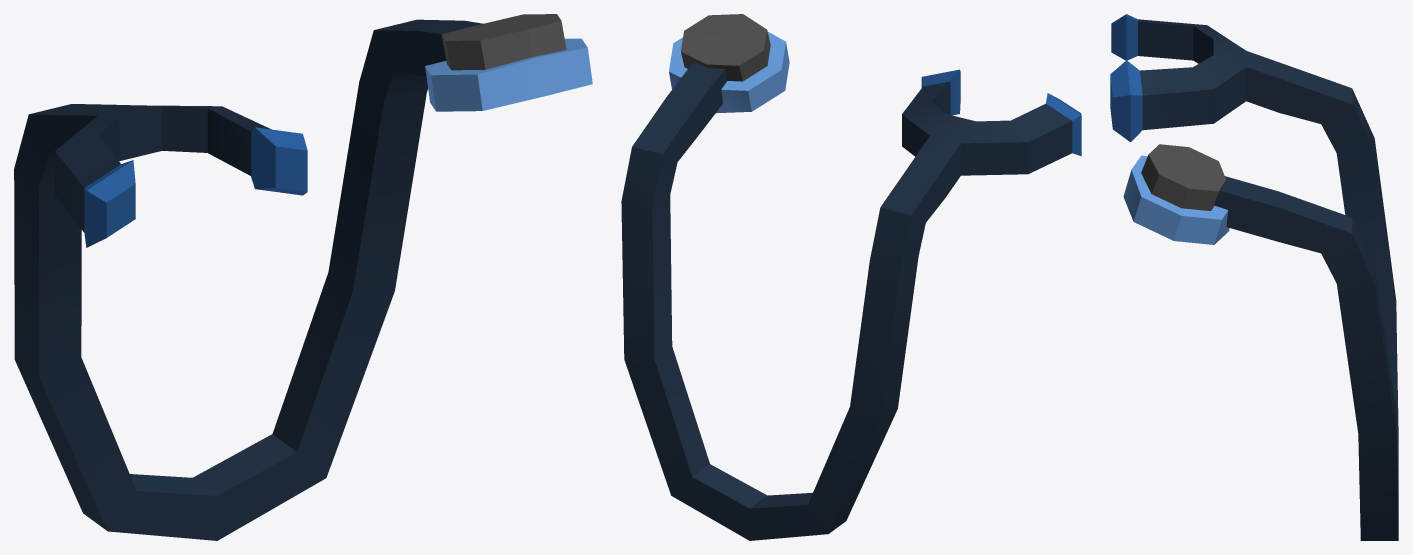
Rendered from Stethoscope 01.FBX.
3 views of the same model, side by side, from view 1: azimuth 30°, elevation 25°; view 2: azimuth 150°, elevation 25°; view 3: azimuth 270°, elevation 25° (orthographic). The views are drawn at different scales.
Visible parts, largest first — view 1: Stethoscope 01; view 2: Stethoscope 01; view 3: Stethoscope 01.
Boxes of the visible parts, bbox=[...] form: Stethoscope 01: bbox=[14, 14, 592, 540]; Stethoscope 01: bbox=[621, 14, 1081, 540]; Stethoscope 01: bbox=[1110, 14, 1398, 540].
Bounding box in the file's own units: 48.91 × 50.21 × 29.98.
Materials: 1 (1 with a texture image).
